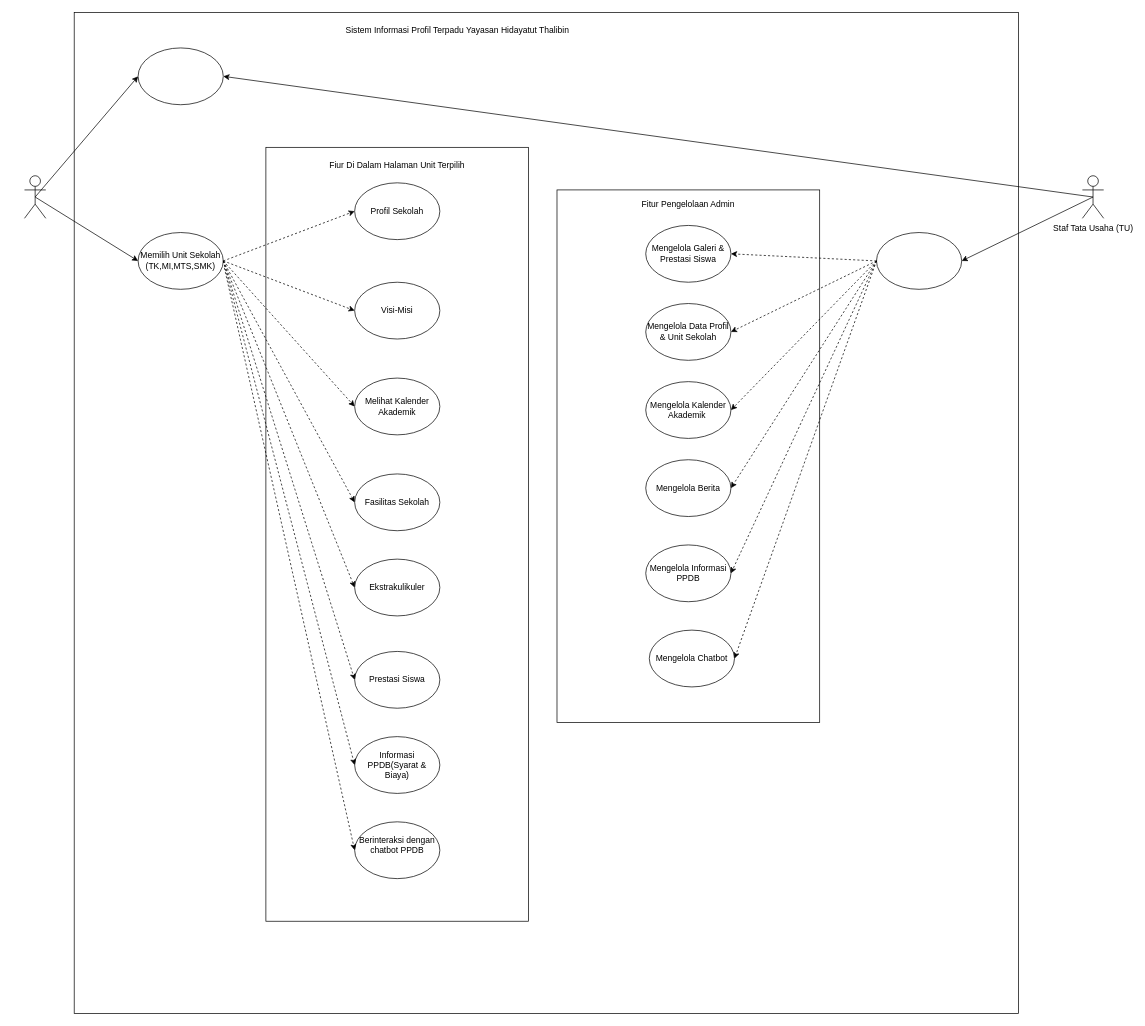
The diagram is 1145 pixels wide and 1026 high, and some of its shapes have lost their labels. The centre of each missing label's shape, as x and y in pixels:
Beranda Utama: the point at 180,76
Login ke Dashboard Admin (CMS): the point at 919,260
Pengunjung: the point at 35,196
